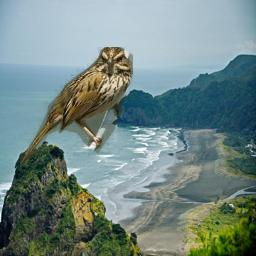Sparrow: (20, 47, 133, 167)
